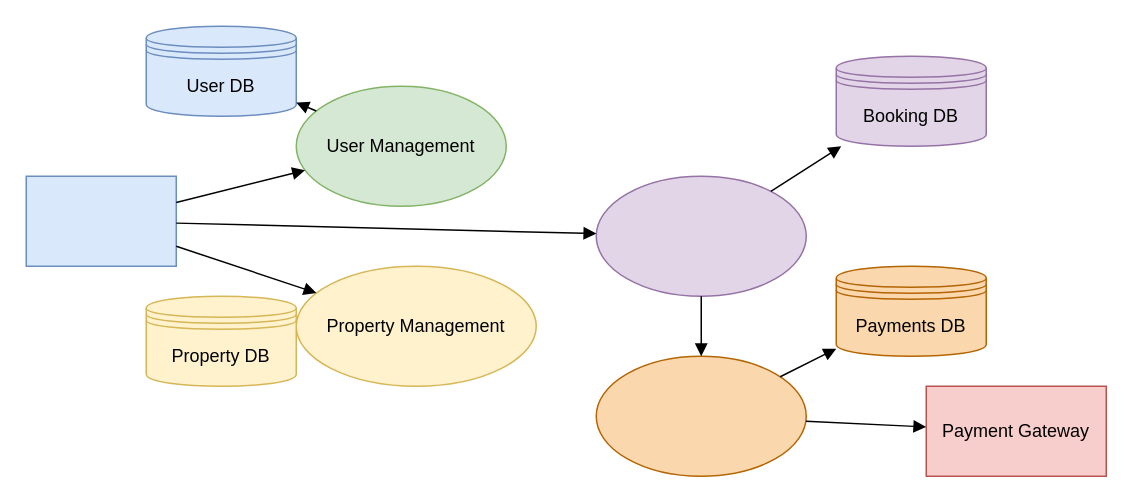
The diagram is 1133 pixels wide and 503 high, and some of its shapes have lost their labels. The shapes that lost their labels are listed below. From the top down, each one's centre as x and y in pixels, then its label:
At pixel 100 220: "User".
At pixel 700 235: "Booking System".
At pixel 700 415: "Payment Processor".
